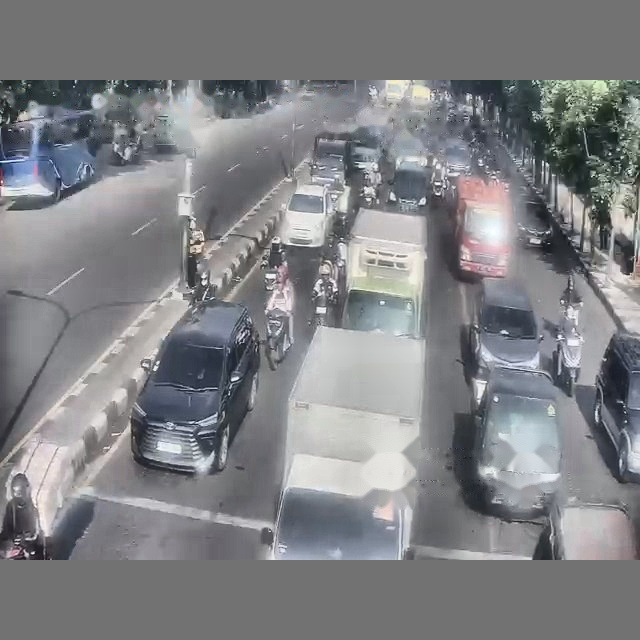Mobil: (130, 299, 259, 472), (261, 455, 411, 559), (472, 366, 561, 519), (468, 278, 542, 407), (593, 331, 639, 482), (533, 499, 637, 559), (280, 184, 334, 248), (388, 162, 428, 212), (517, 201, 552, 249)
Motor: (553, 305, 583, 396), (264, 308, 290, 370), (3, 536, 46, 559), (111, 136, 142, 165), (361, 185, 378, 207)
Truk: (262, 326, 425, 559), (342, 209, 426, 336), (454, 176, 513, 277)
